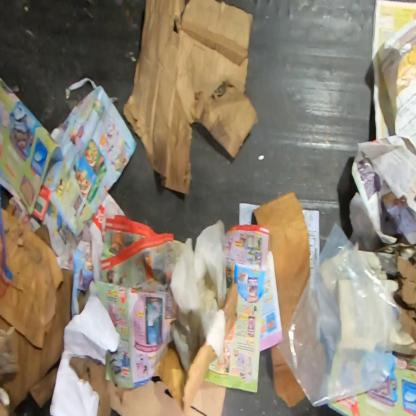cardboard: (122, 0, 260, 196), (0, 206, 75, 415), (252, 190, 310, 334), (153, 342, 228, 415), (105, 379, 186, 415), (68, 355, 113, 415), (270, 346, 306, 408), (222, 282, 238, 340)
soft_plastic: (276, 221, 401, 408), (168, 218, 228, 371)
